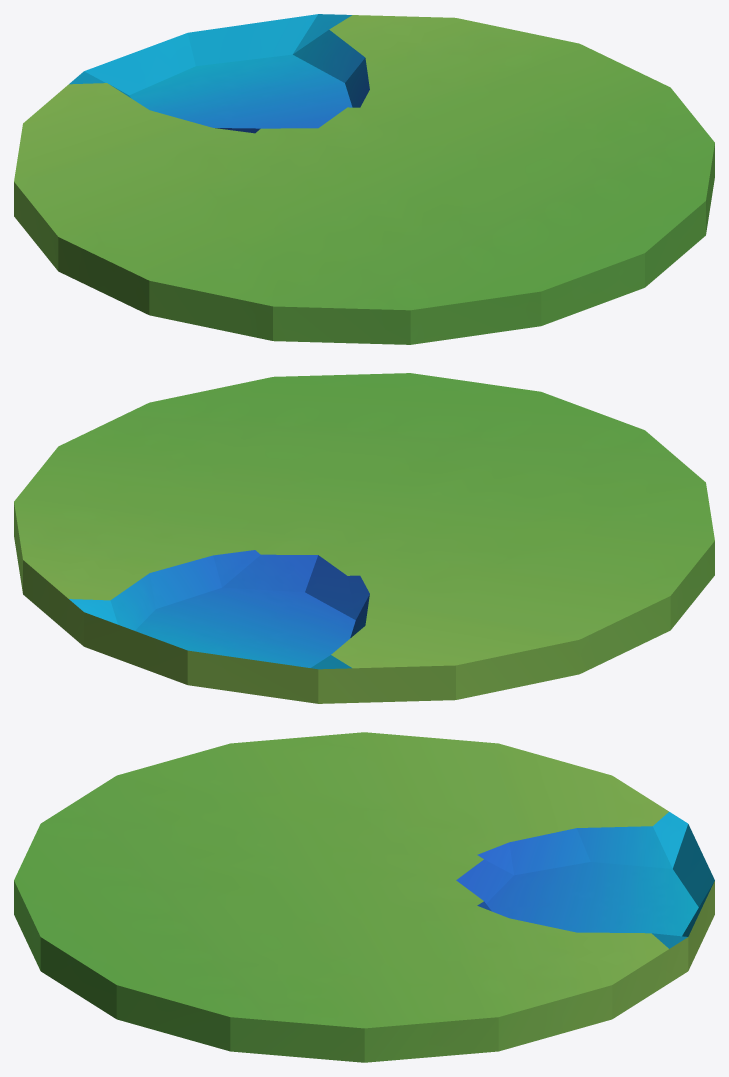
File: platform.fbx
The picture shows the model from 3 angles, top to bottom: view 1: azimuth 30°, elevation 25°; view 2: azimuth 150°, elevation 25°; view 3: azimuth 270°, elevation 25°; orthographic projection.
Visible parts, largest first — view 1: Circle; view 2: Circle; view 3: Circle.
Boxes of the visible parts, x1,y1,x2,y2 form: Circle: (14,14,714,344); Circle: (14,373,714,703); Circle: (14,732,714,1062).
Size of the model in its own units: 59.47 by 3.22 by 59.47.
